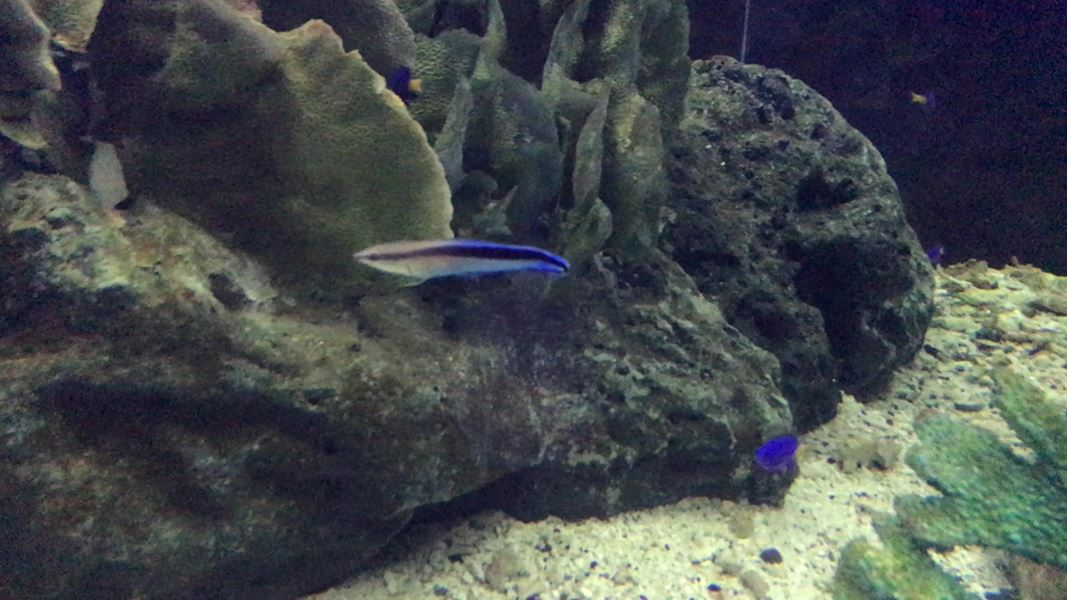Bluesteak cleaner wrasse: (338, 231, 568, 294)
